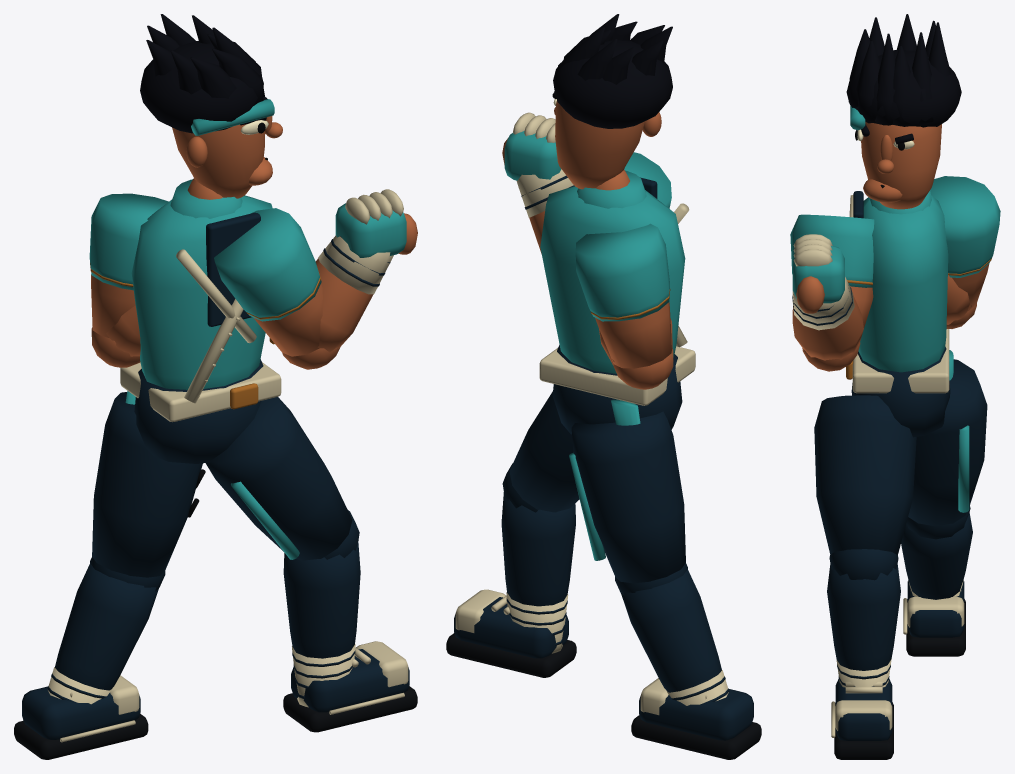
The model's file is lin-rig-v3.glb.
The picture shows the model from 3 angles, left to right: view 1: azimuth 30°, elevation 25°; view 2: azimuth 150°, elevation 25°; view 3: azimuth 270°, elevation 25°; orthographic projection. The views are drawn at different scales.
Parts seen in each view (by area): view 1: lin__torso_surface, lin__head_surface, lin__thighF_surface, lin__thighB_surface, lin__upperArmF_surface, lin__shinB_surface, lin__shinF_surface, lin__upperArmB_surface, lin__footF_surface, lin__footB_surface, lin__pelvis_surface, lin__forearmF_surface (+2 smaller); view 2: lin__thighB_surface, lin__torso_surface, lin__head_surface, lin__upperArmB_surface, lin__shinB_surface, lin__shinF_surface, lin__footF_surface, lin__footB_surface, lin__thighF_surface, lin__pelvis_surface, lin__handF_surface, lin__forearmF_surface (+2 smaller); view 3: lin__torso_surface, lin__thighF_surface, lin__head_surface, lin__thighB_surface, lin__shinF_surface, lin__upperArmB_surface, lin__footF_surface, lin__upperArmF_surface, lin__shinB_surface, lin__footB_surface, lin__forearmF_surface, lin__handF_surface (+2 smaller).
Part boxes in pixels (box(x1,y1,x2,y2)): lin__torso_surface: box(120, 179, 281, 421); lin__head_surface: box(140, 14, 282, 199); lin__thighF_surface: box(205, 397, 359, 560); lin__thighB_surface: box(90, 392, 205, 591); lin__upperArmF_surface: box(214, 208, 340, 369); lin__shinB_surface: box(47, 563, 158, 704); lin__shinF_surface: box(283, 541, 360, 707); lin__upperArmB_surface: box(89, 193, 168, 367); lin__footF_surface: box(283, 641, 417, 732); lin__footB_surface: box(14, 675, 148, 759); lin__pelvis_surface: box(134, 359, 263, 463); lin__forearmF_surface: box(315, 235, 393, 352); lin__thighB_surface: box(569, 411, 687, 595); lin__torso_surface: box(539, 170, 695, 405); lin__head_surface: box(552, 14, 672, 190); lin__upperArmB_surface: box(575, 223, 673, 389); lin__shinB_surface: box(621, 569, 729, 705); lin__shinF_surface: box(501, 492, 575, 653); lin__footF_surface: box(446, 589, 576, 677); lin__footB_surface: box(631, 678, 761, 759); lin__thighF_surface: box(502, 391, 579, 512); lin__pelvis_surface: box(552, 345, 682, 434); lin__handF_surface: box(502, 112, 561, 180); lin__forearmF_surface: box(516, 169, 574, 253); lin__torso_surface: box(846, 190, 949, 393); lin__thighF_surface: box(814, 395, 916, 580); lin__head_surface: box(846, 14, 961, 209); lin__thighB_surface: box(906, 359, 987, 539); lin__shinF_surface: box(827, 564, 900, 687); lin__upperArmB_surface: box(930, 176, 1000, 328); lin__footF_surface: box(831, 678, 893, 759); lin__upperArmF_surface: box(790, 214, 874, 371); lin__shinB_surface: box(901, 513, 972, 599); lin__footB_surface: box(903, 580, 965, 656); lin__forearmF_surface: box(792, 277, 863, 360); lin__handF_surface: box(792, 234, 844, 313).
Size of the model in its own units: 1.75 by 3.48 by 1.02.
